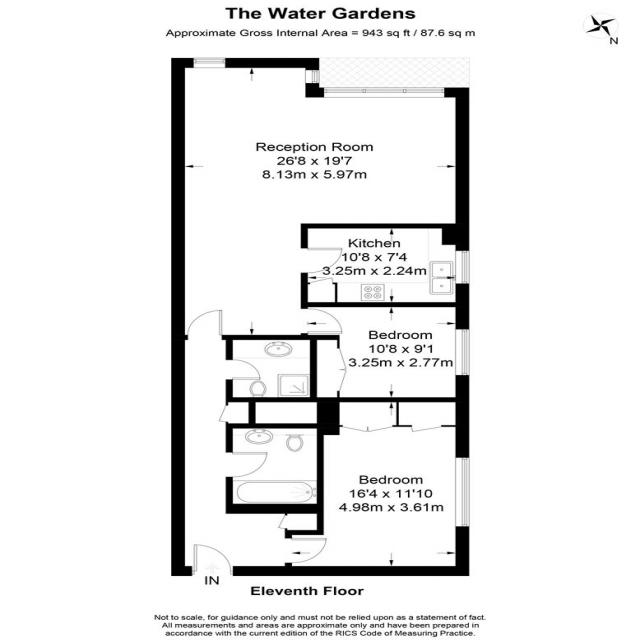DOOR: (191, 543, 234, 576), (284, 537, 328, 565), (225, 451, 269, 479), (300, 308, 344, 335), (300, 247, 343, 274), (187, 309, 224, 340), (224, 359, 263, 380)
ROOM: (171, 57, 469, 340), (285, 397, 470, 576), (300, 302, 470, 403), (301, 223, 470, 308)
WINDOW: (323, 87, 445, 98), (454, 457, 470, 527), (454, 329, 470, 376), (455, 250, 470, 284), (193, 57, 226, 69), (305, 69, 320, 84)
